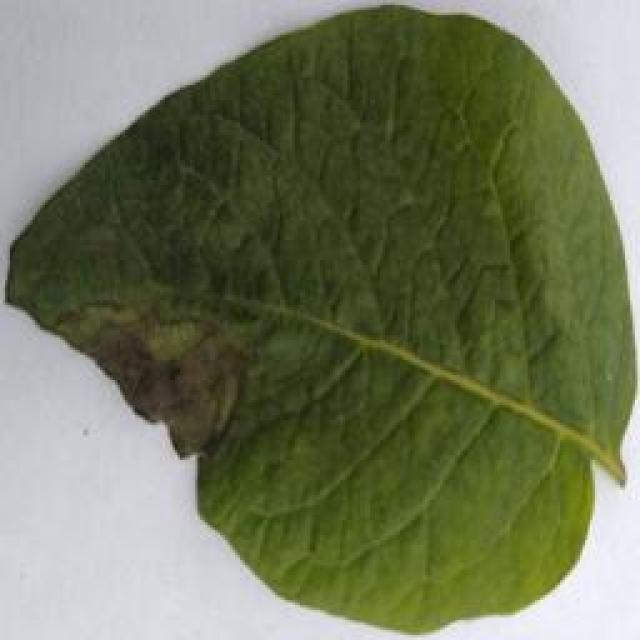Potato_Late_Blight: (4, 7, 622, 632)
